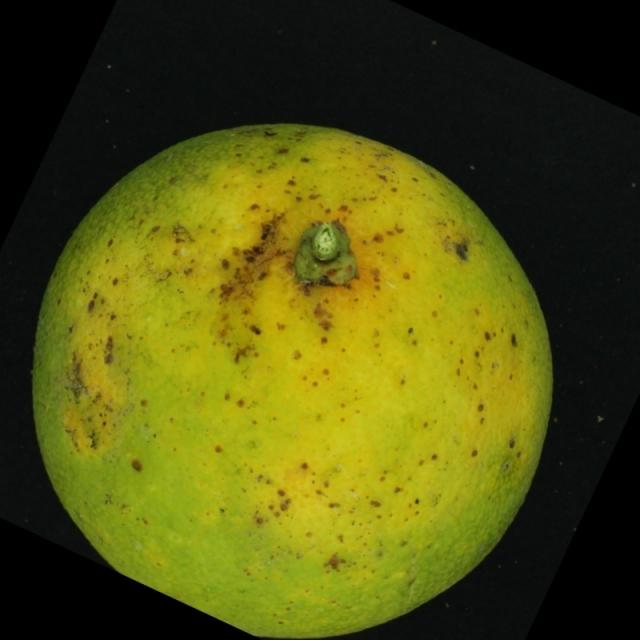grenning: (20, 92, 580, 640)
